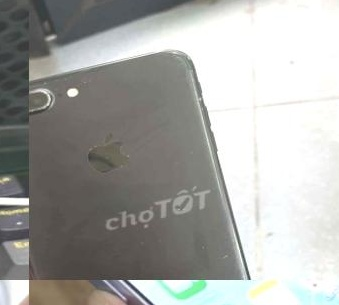scratch: (29, 62, 103, 126), (71, 124, 138, 181), (195, 223, 245, 268), (160, 40, 200, 77), (181, 73, 207, 116), (227, 262, 264, 280)
